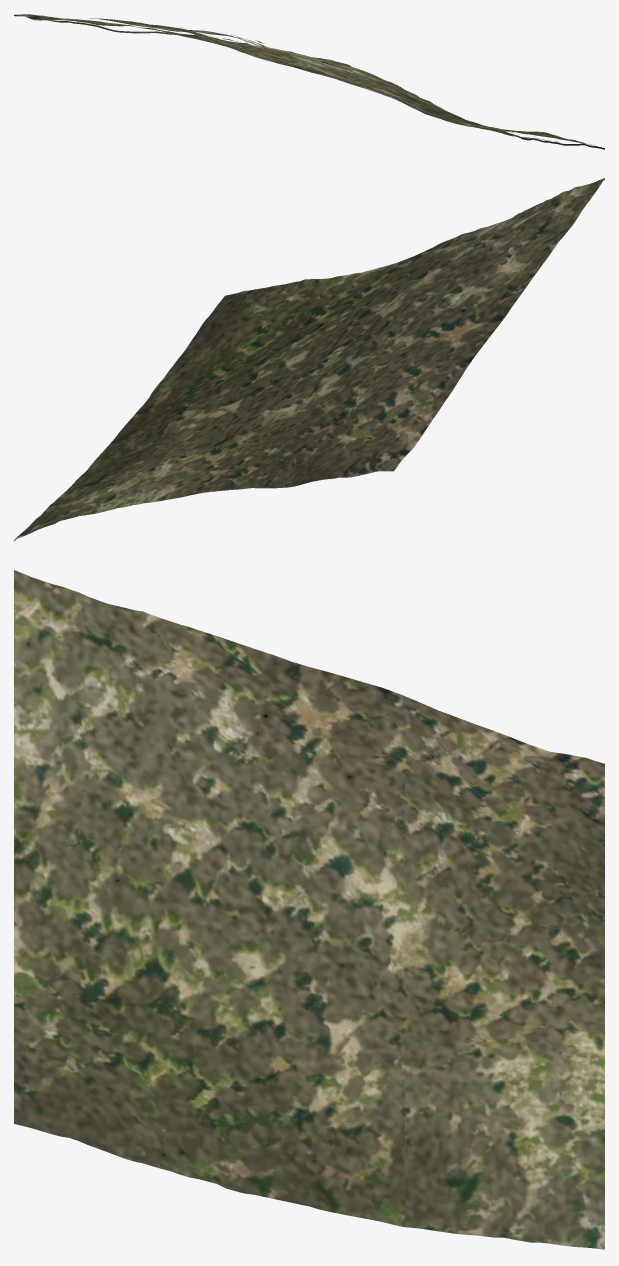
3 renders of one model, top to bottom at view 1: azimuth 30°, elevation 25°; view 2: azimuth 150°, elevation 25°; view 3: azimuth 270°, elevation 25°, orthographic. The views are drawn at different scales.
Bounding box in the file's own units: 250 × 190 × 241.
Materials: 1 (1 with a texture image).
